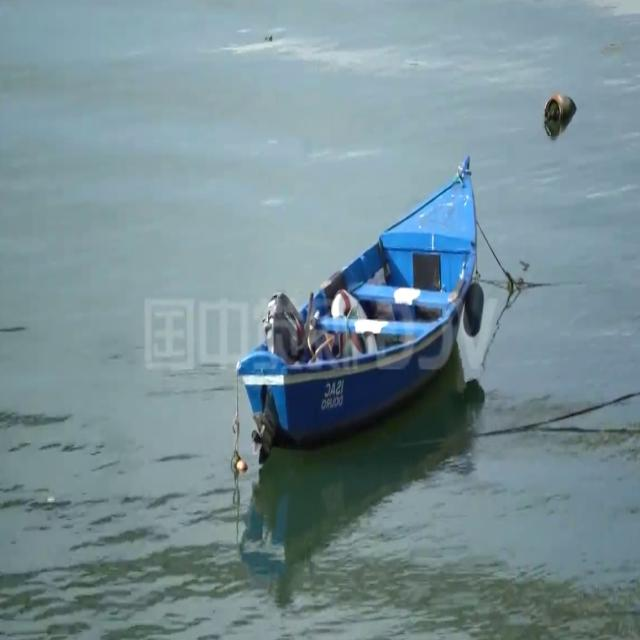fishing boat: (240, 146, 482, 448)
